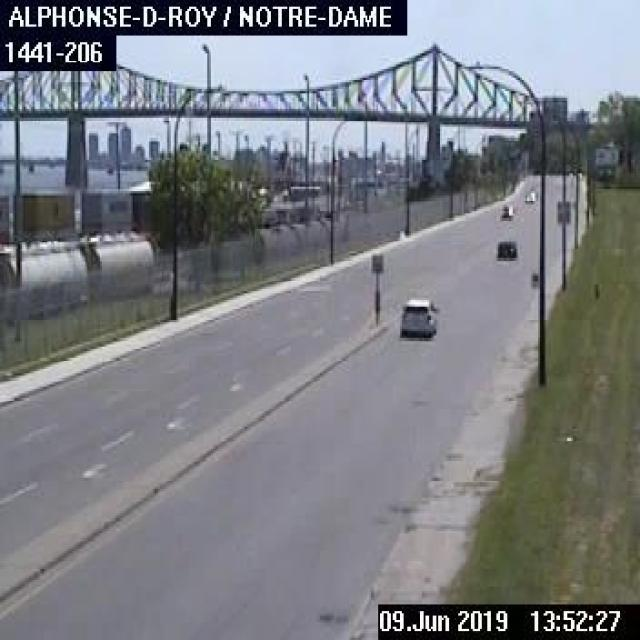vehicle: (398, 294, 436, 336), (493, 235, 516, 258), (498, 202, 511, 216), (524, 190, 534, 200)
